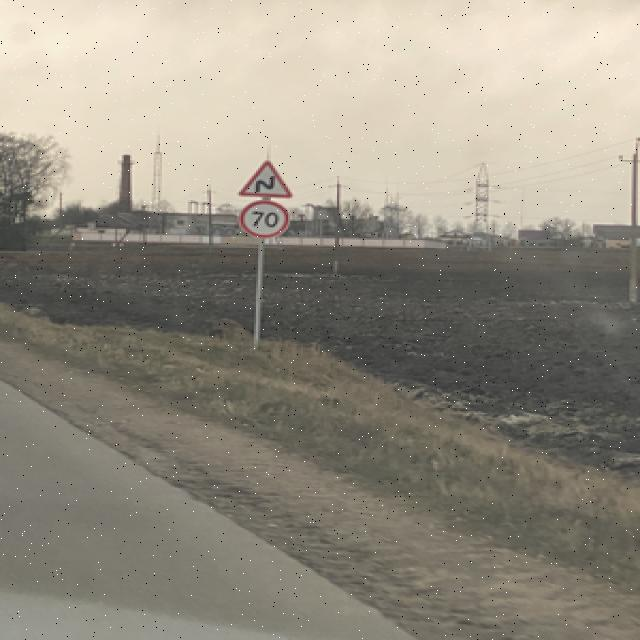Speedlimit: (237, 198, 290, 238)
